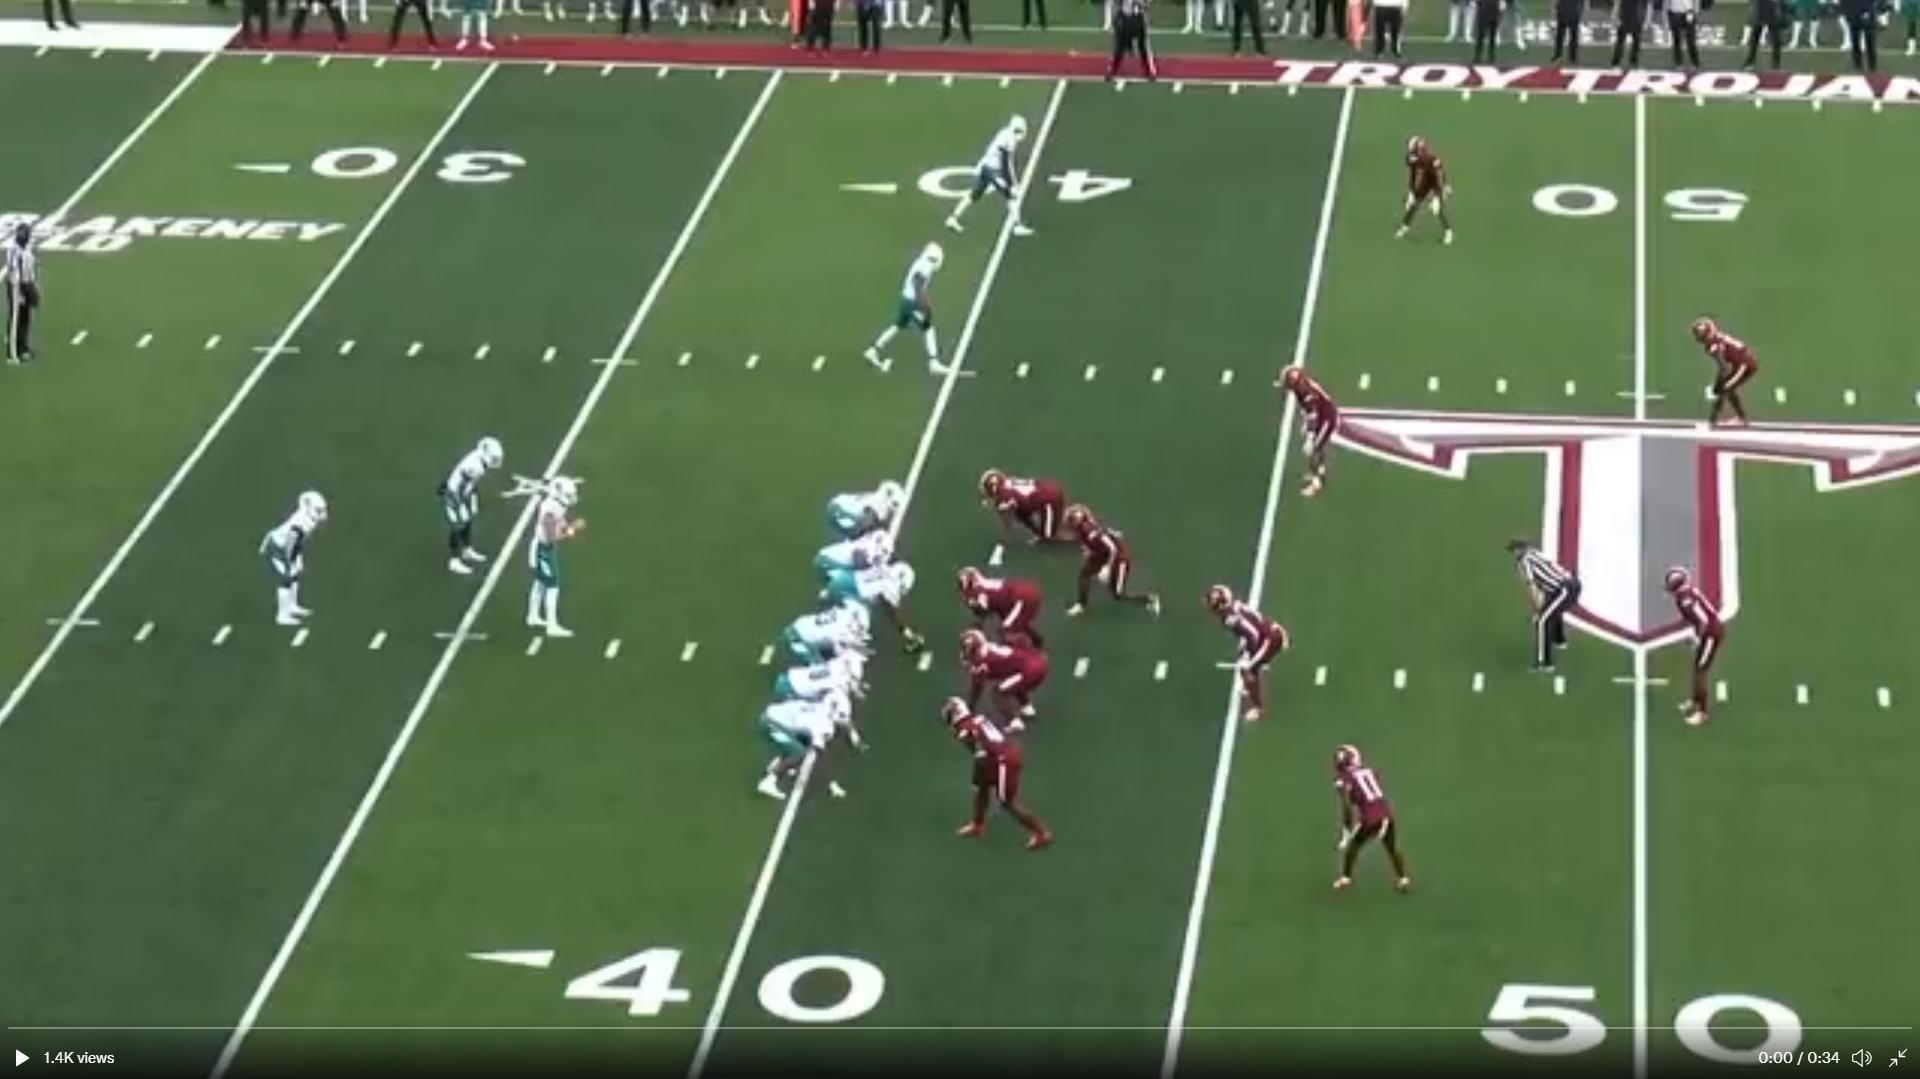defense: (945, 689, 1059, 857), (1319, 736, 1414, 901), (1062, 503, 1166, 627), (1207, 580, 1294, 725), (1667, 561, 1737, 731), (956, 629, 1059, 739), (980, 468, 1084, 571), (1278, 359, 1350, 501), (1389, 127, 1461, 252), (1688, 314, 1762, 431), (951, 563, 1047, 636)
oline: (774, 656, 876, 761), (831, 561, 930, 658), (814, 526, 905, 608), (811, 476, 911, 547), (783, 604, 882, 667)
qb: (529, 472, 599, 660)
ref: (1507, 539, 1576, 689), (0, 214, 50, 371), (1100, 0, 1164, 84)
skill: (753, 673, 861, 809), (857, 233, 952, 380), (949, 108, 1044, 243), (433, 430, 509, 586), (253, 483, 328, 638)
